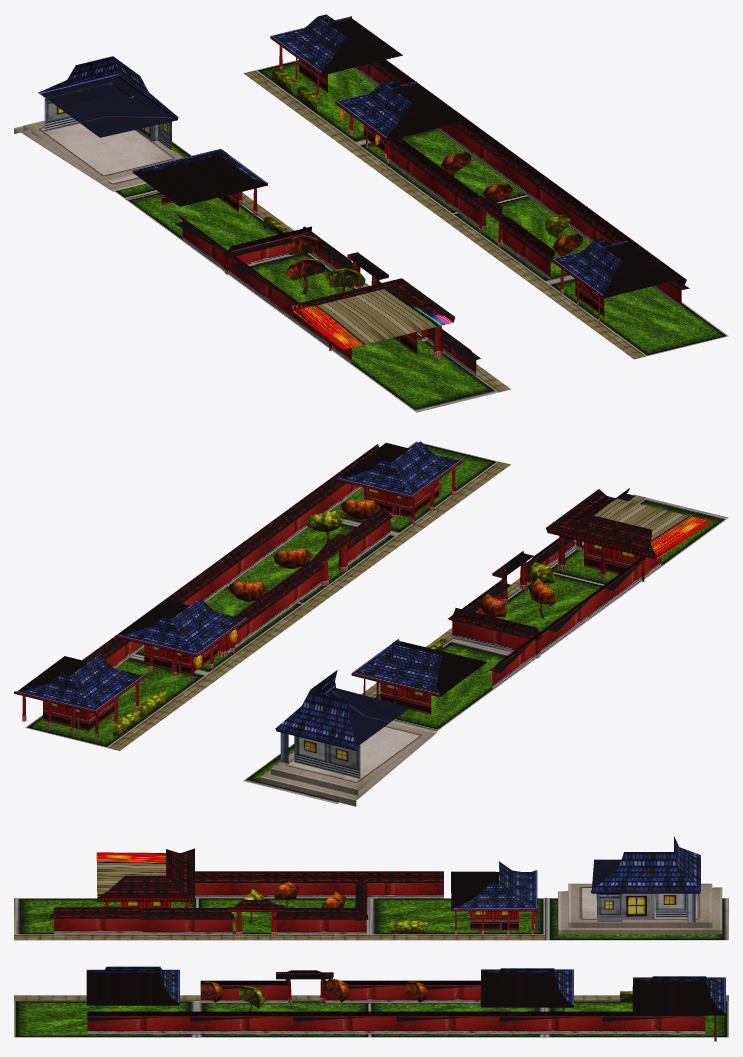
Rendered from as_oldcity_mid1.fbx.
3 views of the same model, one above another, from view 1: azimuth 30°, elevation 25°; view 2: azimuth 150°, elevation 25°; view 3: azimuth 270°, elevation 25° (orthographic). The views are drawn at different scales.
Visible parts, largest first — view 1: as_oldcity_mid1; view 2: as_oldcity_mid1; view 3: as_oldcity_mid1.
Part boxes in pixels (<box>): as_oldcity_mid1: <box>14,14,728,412</box>; as_oldcity_mid1: <box>14,441,728,806</box>; as_oldcity_mid1: <box>14,836,728,1041</box>.
Size of the model in its own units: 5217 by 1182 by 10000.
